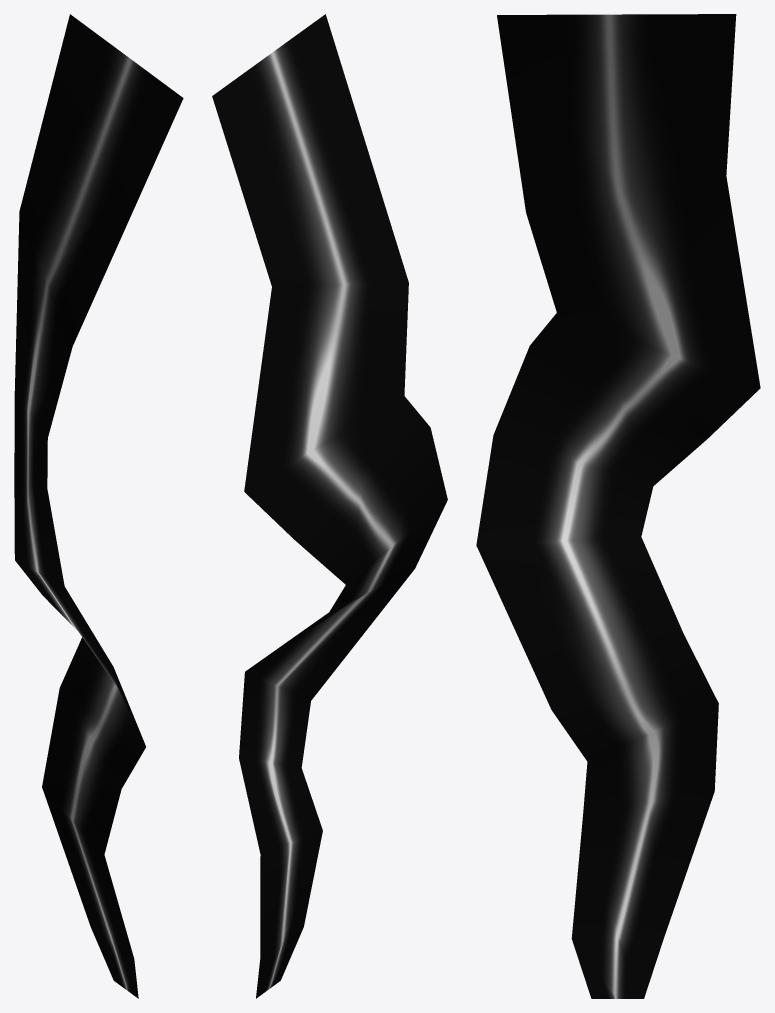
Rendered from LightningPlane01.fbx.
3 renders of one model, left to right at view 1: azimuth 30°, elevation 25°; view 2: azimuth 150°, elevation 25°; view 3: azimuth 270°, elevation 25°, orthographic. The views are drawn at different scales.
Parts seen in each view (by area): view 1: LightningPlane01; view 2: LightningPlane01; view 3: LightningPlane01.
Boxes of the visible parts, bbox=[...] form: LightningPlane01: bbox=[14, 14, 183, 998]; LightningPlane01: bbox=[212, 14, 447, 998]; LightningPlane01: bbox=[476, 14, 760, 998].
Bounding box in the file's own units: 53.87 × 399 × 104.
